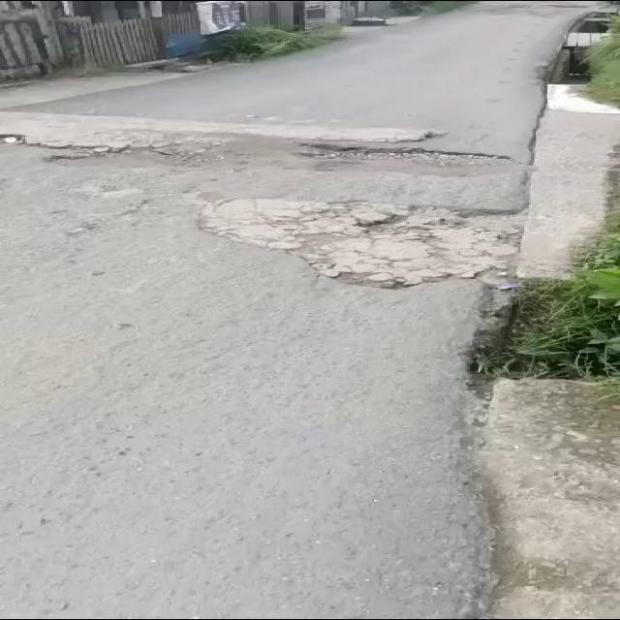lubang: (0, 106, 529, 172), (202, 200, 520, 287)
